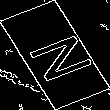N_NE: (15, 26, 95, 84)
